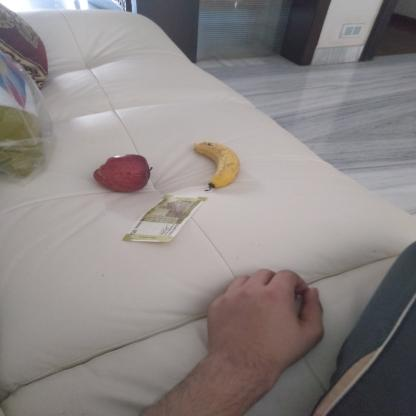New20Back: (122, 193, 206, 240)
